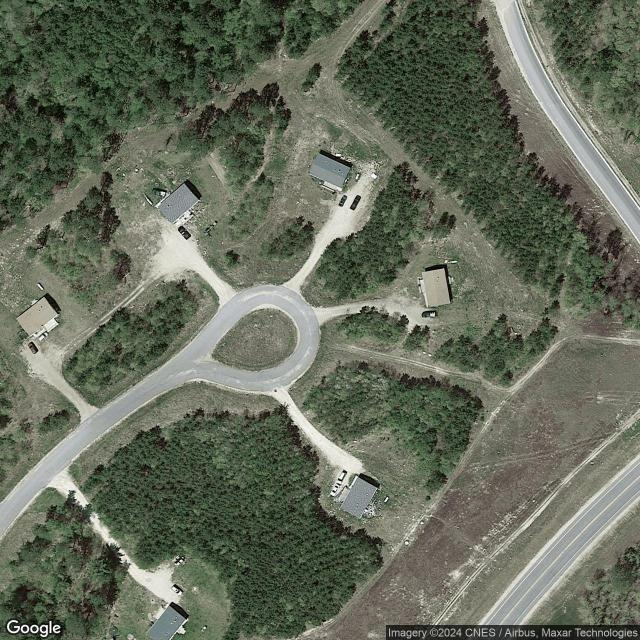Propane: (144, 196, 155, 207), (199, 624, 210, 633), (36, 281, 45, 291), (382, 495, 390, 505), (354, 171, 361, 182), (448, 258, 459, 264)
